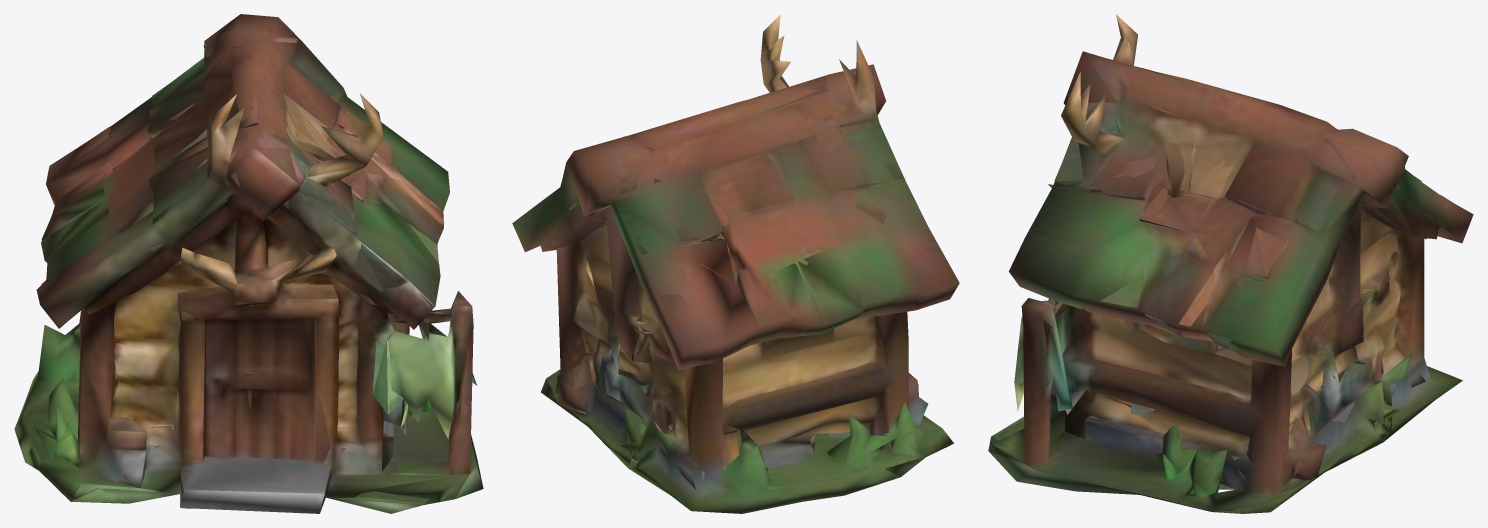
The model's file is hunter.glb.
The picture shows the model from 3 angles, left to right: view 1: azimuth 30°, elevation 25°; view 2: azimuth 150°, elevation 25°; view 3: azimuth 270°, elevation 25°; orthographic projection. The views are drawn at different scales.
Parts seen in each view (by area): view 1: RETOPO; view 2: RETOPO; view 3: RETOPO.
Boxes of the visible parts, x1,y1,x2,y2 form: RETOPO: (14,14,483,513); RETOPO: (512,14,959,513); RETOPO: (988,14,1473,513).
Size of the model in its own units: 0.929 by 0.8047 by 0.9168.
1 material, 1 textured.
